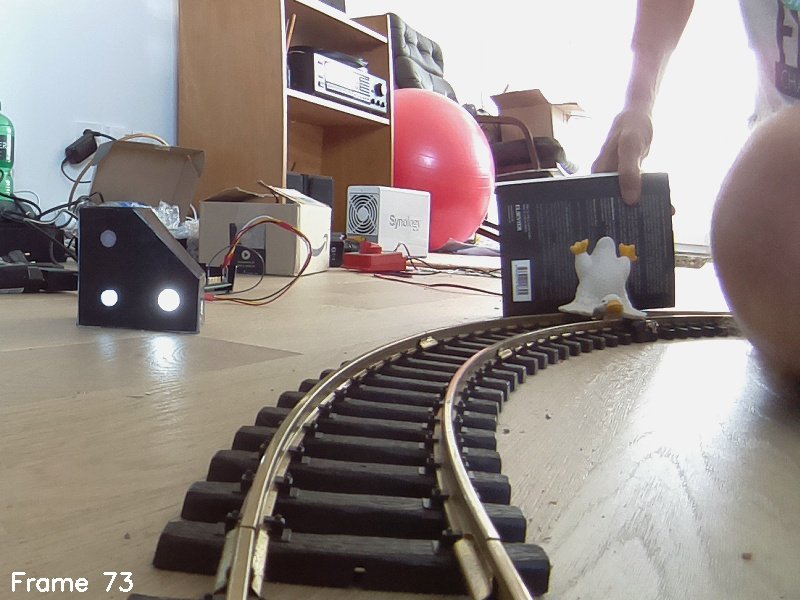Ente: (557, 237, 657, 330)
Halt: (78, 205, 202, 336)
